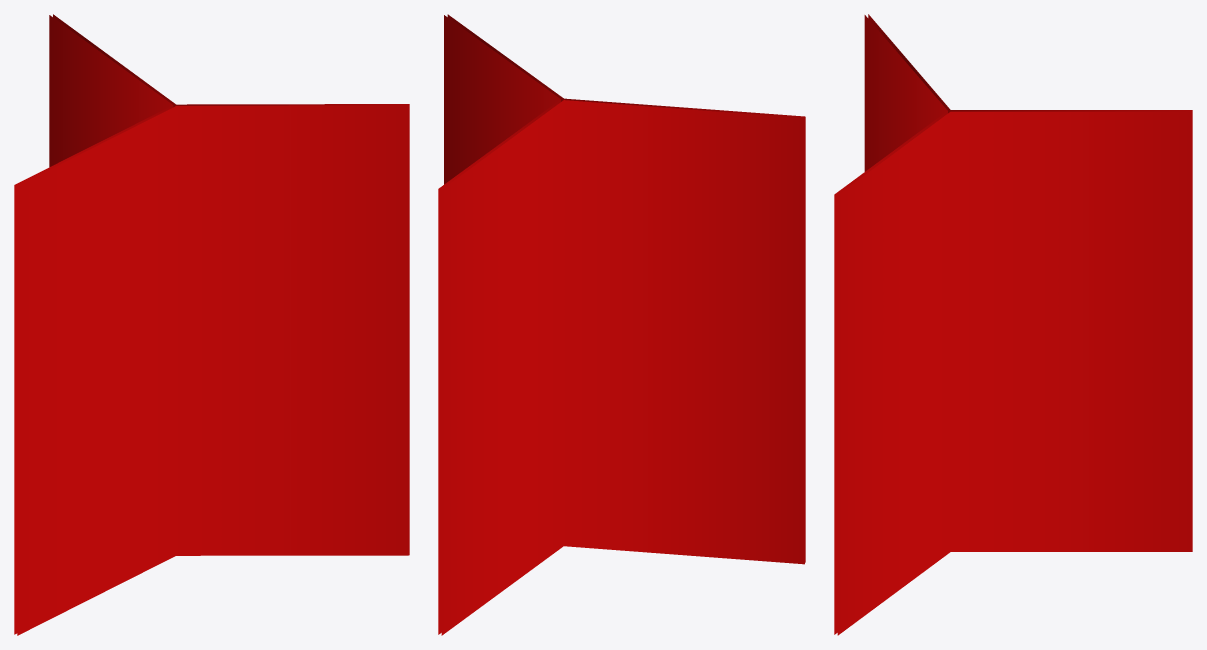
The model's file is Vege_GrassClump01_01.FBX.
3 renders of one model, left to right at view 1: azimuth 30°, elevation 25°; view 2: azimuth 150°, elevation 25°; view 3: azimuth 270°, elevation 25°, orthographic. The views are drawn at different scales.
Parts seen in each view (by area): view 1: Vege_GrassClump01_01; view 2: Vege_GrassClump01_01; view 3: Vege_GrassClump01_01.
Part boxes in pixels (left/top/right/bottom): Vege_GrassClump01_01: left=14, top=14, right=409, bottom=635; Vege_GrassClump01_01: left=438, top=14, right=805, bottom=635; Vege_GrassClump01_01: left=834, top=14, right=1192, bottom=635.
Bounding box in the file's own units: 44.17 × 50 × 36.89.
